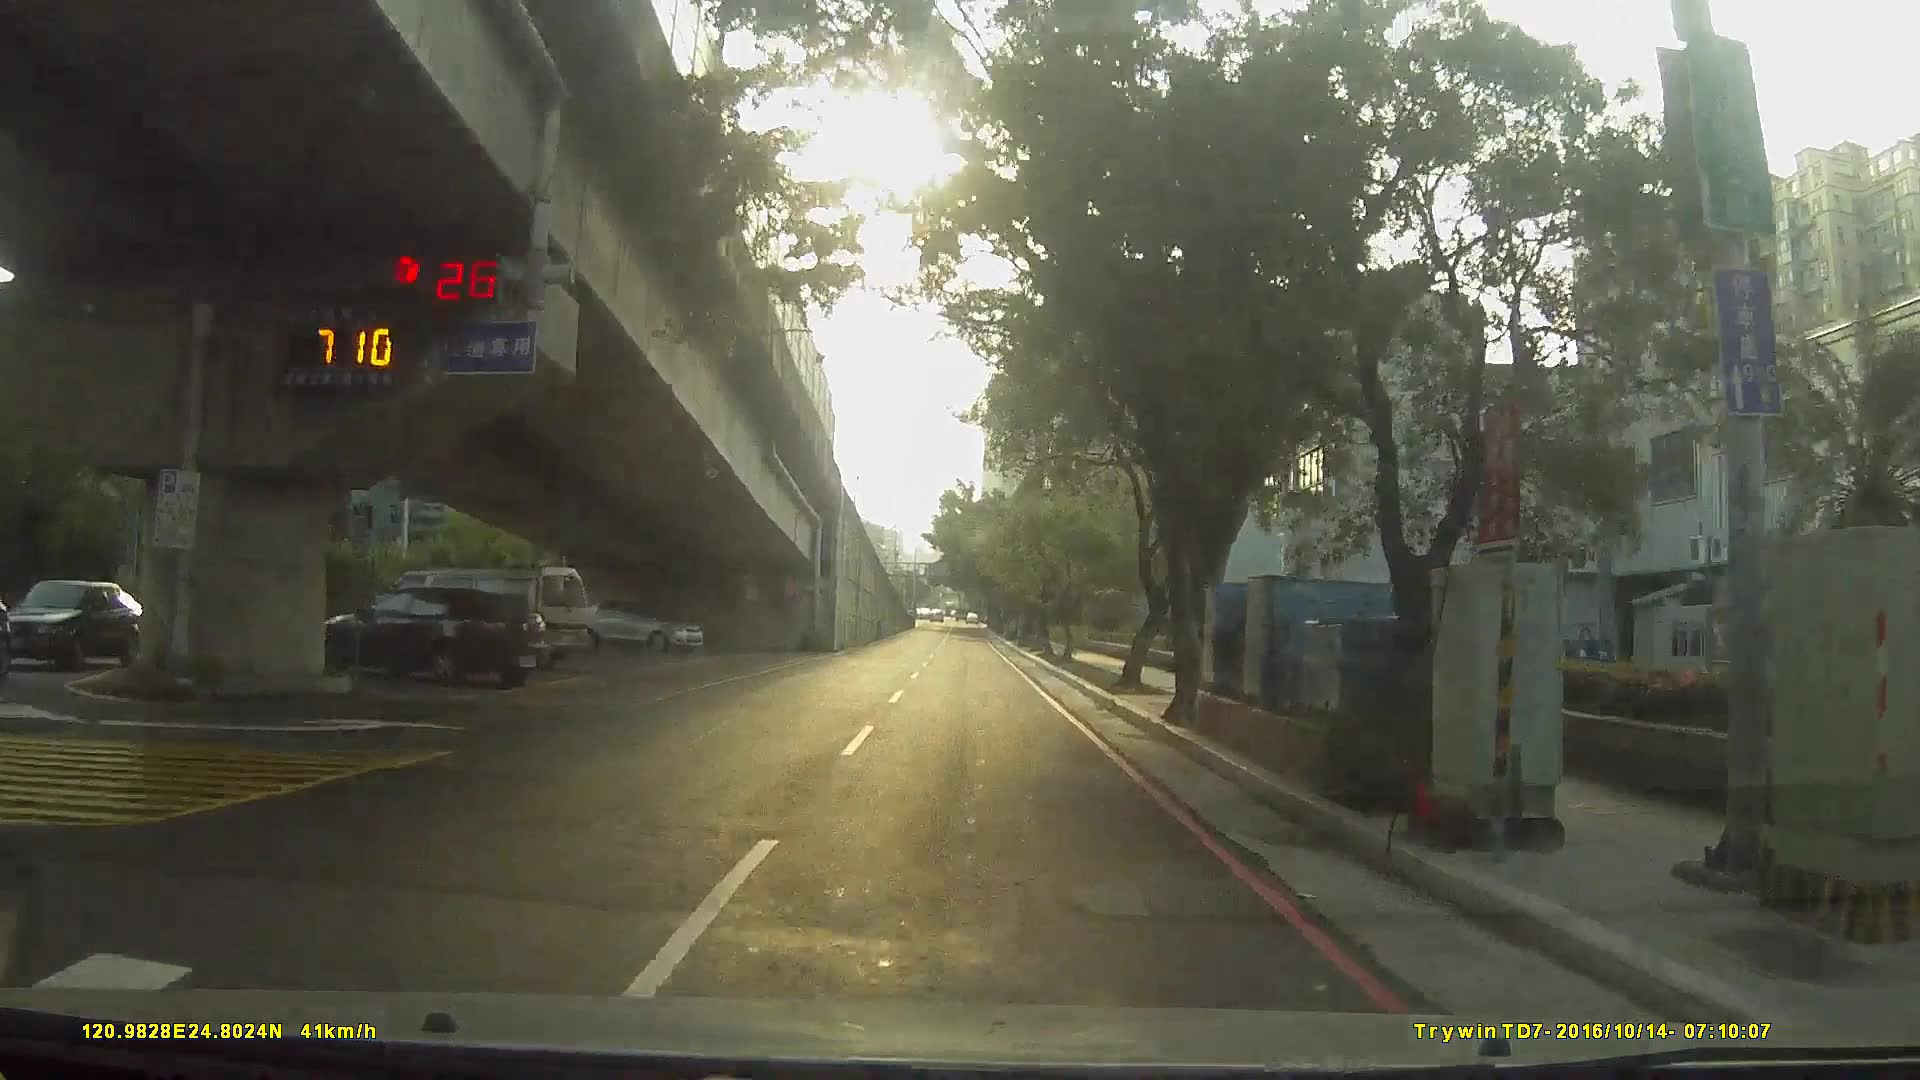vehicle: (294, 585, 541, 691), (363, 563, 584, 669), (9, 582, 160, 676), (575, 596, 703, 653)
